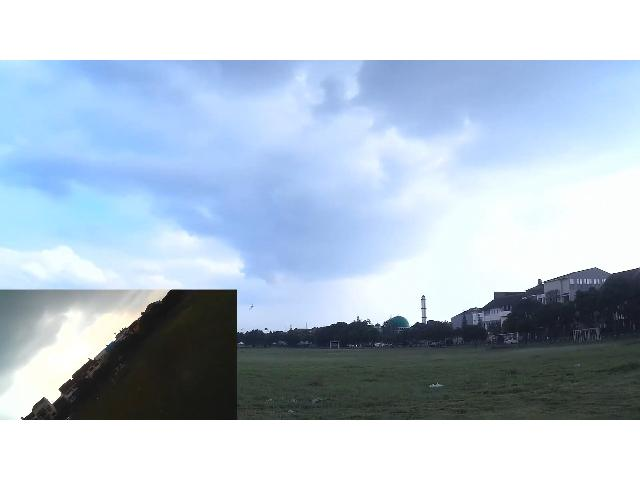Anti-Drone: (246, 299, 258, 311)
